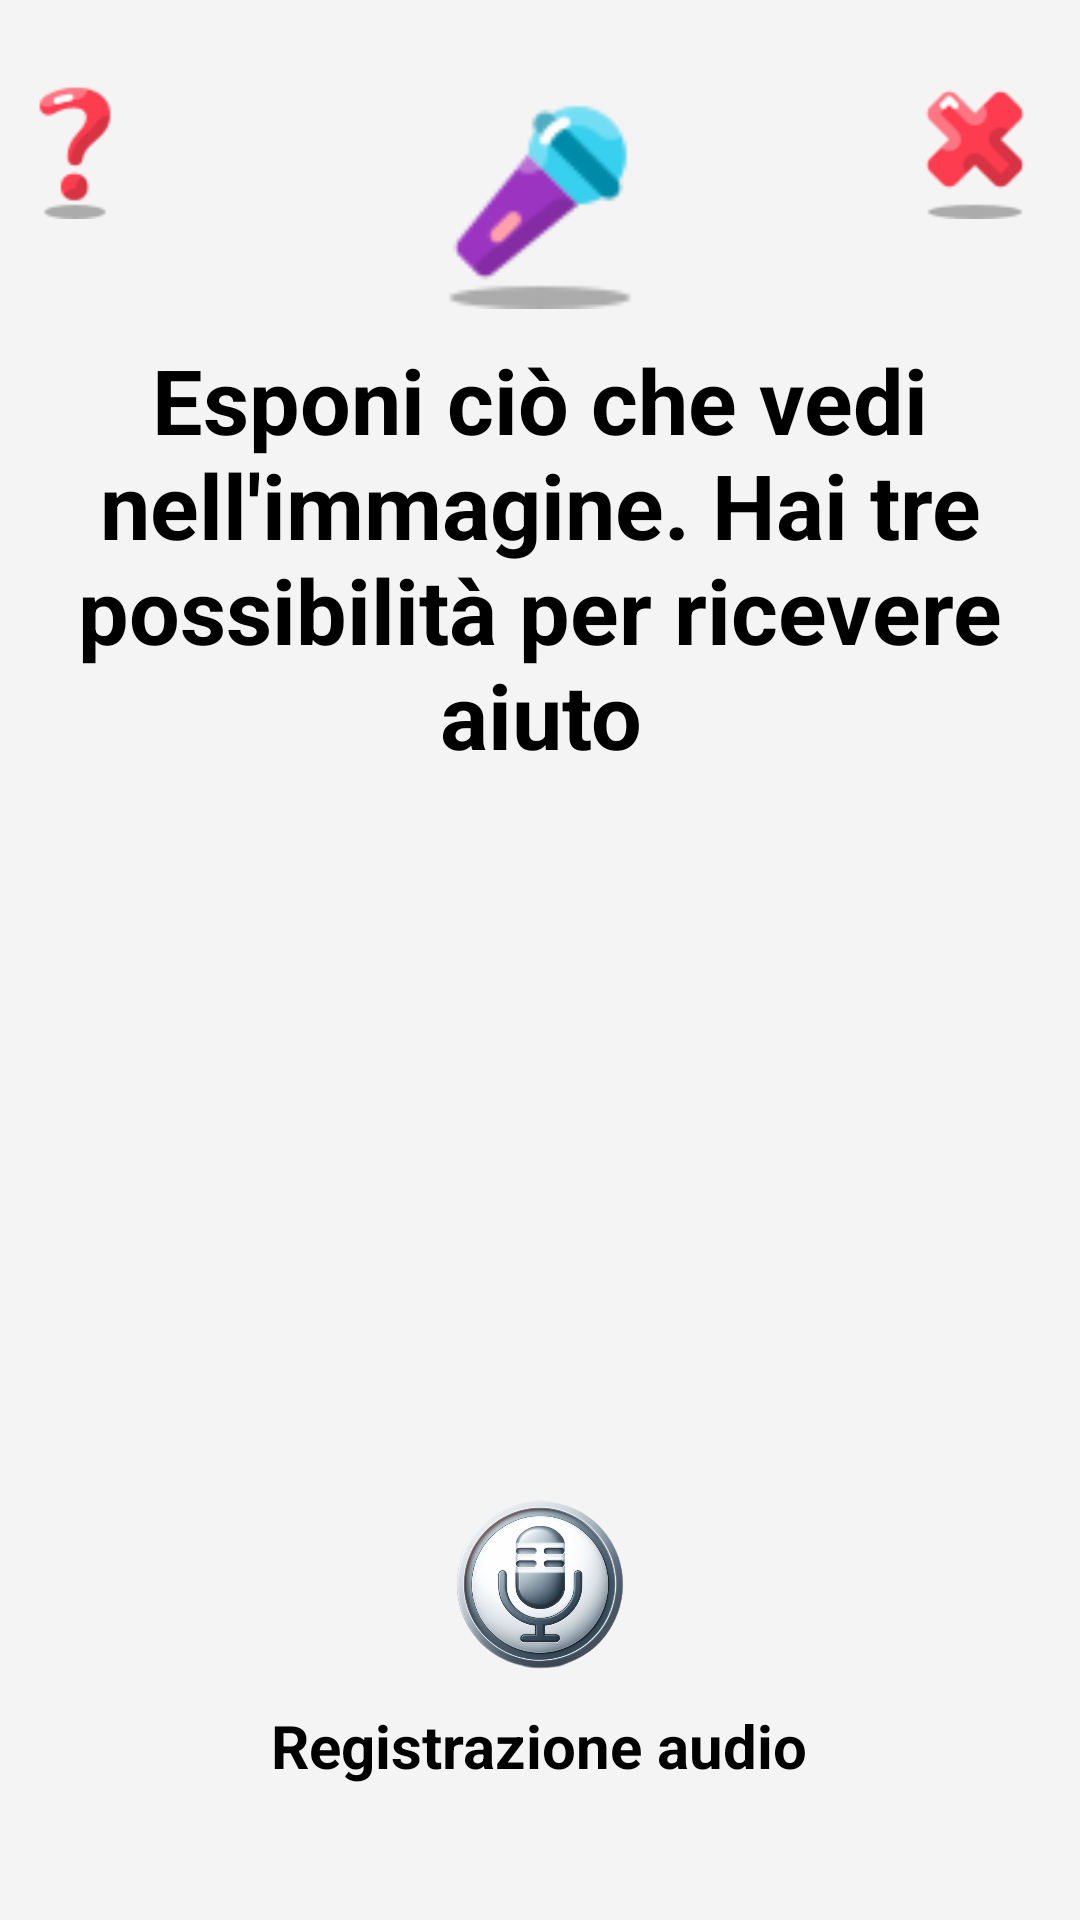

Point at icon controls on the screen. Image size 1080px x 1920px, points as point (x, y).
exit: point (975, 155)
help: point (75, 153)
